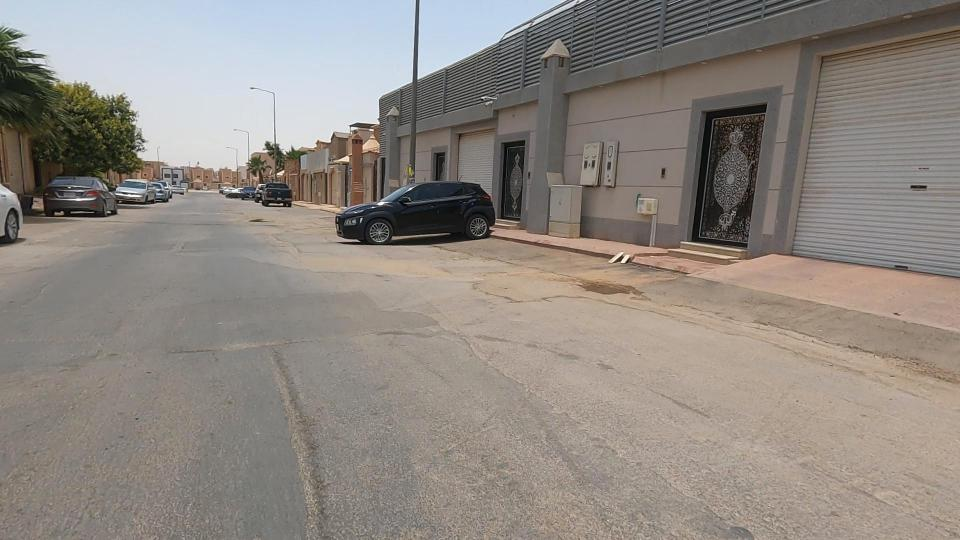GARBAGE: (574, 222, 663, 296)
POTHOLES: (216, 200, 289, 246)
